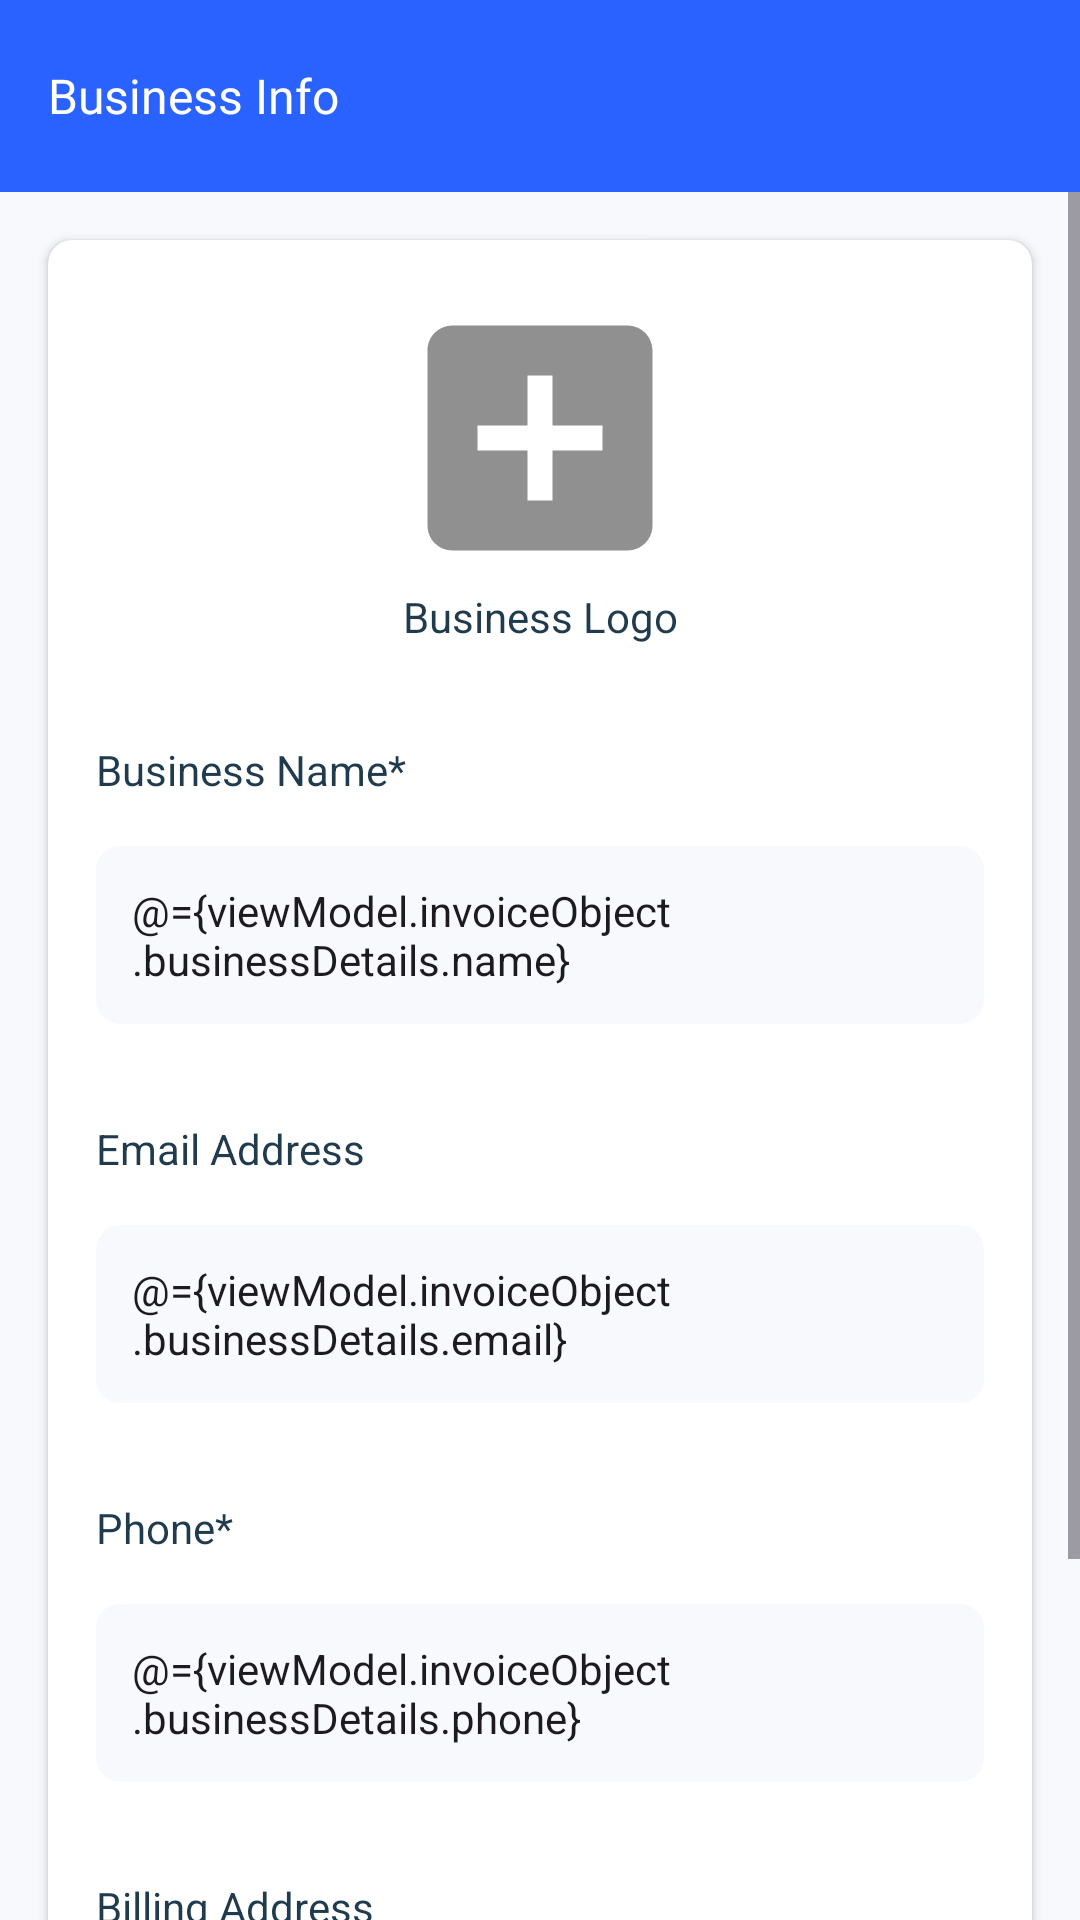

Screen size 1080px×1920px. Icon name, then its box in pixels as {"x1": x1, "y1": y1, "x2": x2, "y2": y2}:
add box: {"x1": 427, "y1": 325, "x2": 653, "y2": 551}
